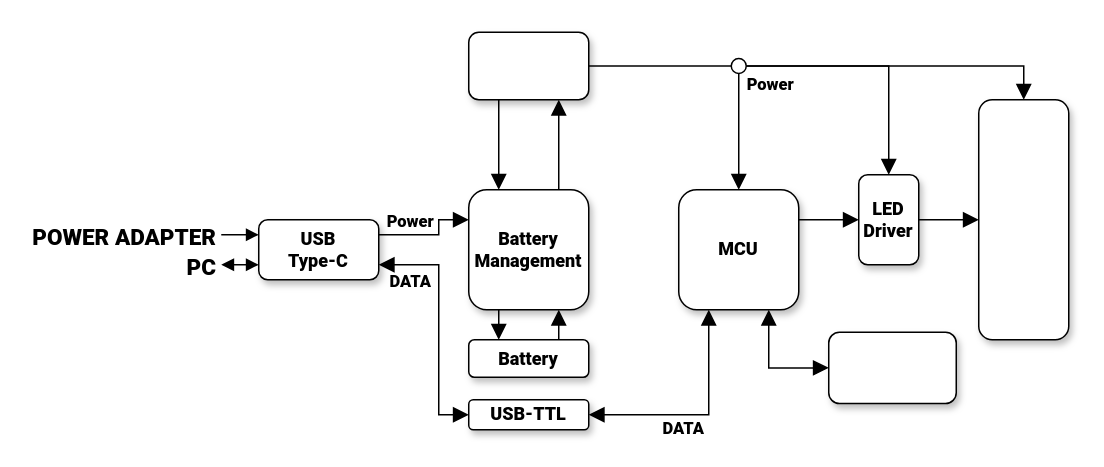
Some shapes in this 1104 by 467 pixel diagram are drawn without their labels. Here are the shapes that lost their labels. From the top down, the centre of each, then its label:
the point at 529,67: Power Supply
the point at 1024,221: LED Panel
the point at 893,369: Battery Status Light
